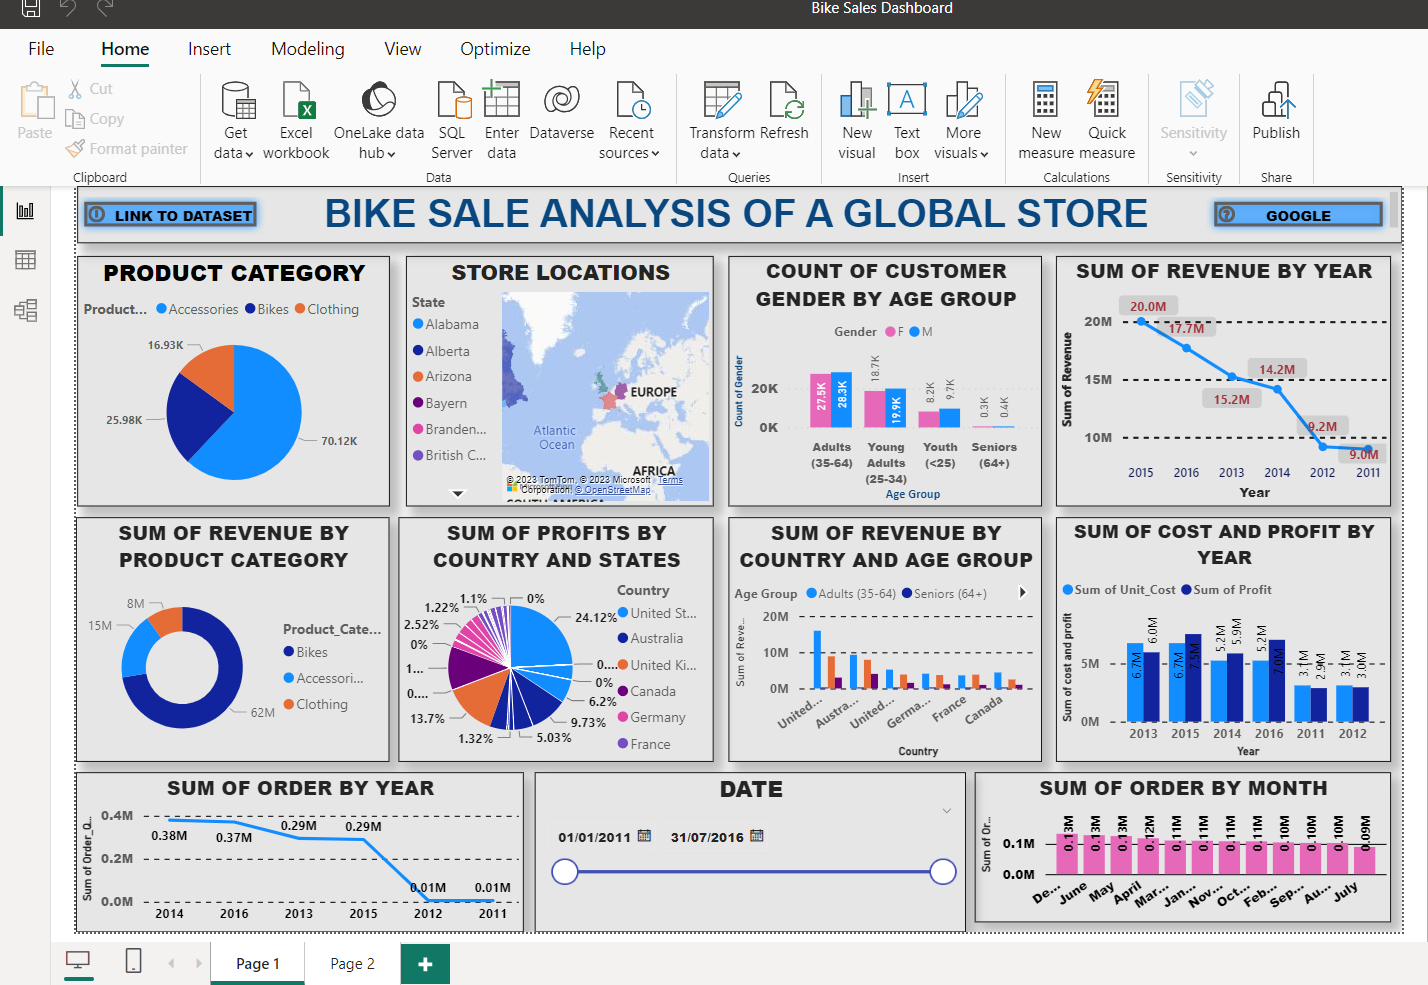

What the dashboard file says about the page in this screenshot:
{"tool":"powerbi","page":{"name":"Page 1","canvas":[1280,720],"ordinal":0},"visuals":[{"type":"pieChart","title":"PRODUCT CATEGORY ","fields":{"Category":["bike sales europe.Product_Category"],"Y":["CountNonNull(bike sales europe.Product_Category)"]},"box":[1.2,67.5,301.5,241.2],"z":0},{"type":"filledMap","title":"STORE LOCATIONS","fields":{"Category":["bike sales europe.Country"],"Series":["bike sales europe.State"]},"box":[318.4,67.5,296.7,241.2],"z":1000},{"type":"clusteredColumnChart","title":"COUNT OF CUSTOMER GENDER BY AGE GROUP ","fields":{"Category":["bike sales europe.Age_Group"],"Y":["CountNonNull(bike sales europe.Customer_Gender)"],"Series":["bike sales europe.Customer_Gender"]},"box":[629.5,67.5,302.7,241.2],"z":2000},{"type":"lineChart","title":"SUM OF REVENUE BY YEAR","fields":{"Category":["bike sales europe.Year"],"Y":["Sum(bike sales europe.Revenue)"]},"box":[945.5,67.5,323.2,241.2],"z":3000},{"type":"donutChart","title":"SUM OF REVENUE BY PRODUCT CATEGORY","fields":{"Y":["Sum(bike sales europe.Revenue)"],"Category":["bike sales europe.Product_Category"]},"box":[0,319.6,302.7,236.4],"z":4000},{"type":"clusteredColumnChart","title":"SUM OF REVENUE BY COUNTRY AND AGE GROUP","fields":{"Category":["bike sales europe.Country"],"Y":["Sum(bike sales europe.Revenue)"],"Series":["bike sales europe.Age_Group"]},"box":[629.5,319.6,302.7,236.4],"z":5000},{"type":"pieChart","title":"SUM OF PROFITS BY COUNTRY AND STATES","fields":{"Category":["bike sales europe.Country"],"Y":["Sum(bike sales europe.Profit)"],"Series":["bike sales europe.State"]},"box":[311.2,319.6,303.9,236.4],"z":6000},{"type":"textbox","box":[1.2,0,1278.4,55.5],"z":7000},{"type":"clusteredColumnChart","title":"SUM OF COST AND PROFIT BY YEAR","fields":{"Category":["bike sales europe.Year"],"Y":["Sum(bike sales europe.Unit_Cost)","Sum(bike sales europe.Profit)"]},"box":[945.5,319.6,323.2,236.4],"z":8000},{"type":"actionButton","box":[0,7.2,182.1,39.8],"z":9000},{"type":"actionButton","box":[1090.3,7.2,178.5,39.8],"z":10000},{"type":"lineChart","title":"SUM OF ORDER BY YEAR","fields":{"Category":["bike sales europe.Year"],"Y":["Sum(bike sales europe.Order_Quantity)"]},"box":[0,565.6,431.8,154.4],"z":11000},{"type":"clusteredColumnChart","title":"SUM OF ORDER BY MONTH","fields":{"Category":["bike sales europe.Month"],"Y":["Sum(bike sales europe.Order_Quantity)"]},"box":[867.1,565.6,401.6,144.7],"z":12000},{"type":"slicer","title":"DATE","fields":{"Values":["bike sales europe.Date"]},"box":[442.6,565.6,416.1,154.4],"z":12001}]}

Visuals, with their boxes on the page's 1280x720 design canvas (x1, y1, x2, y2). These are canvas units, not pixel positions in the 1428x985 screenshot, which may show the page scaled, cropped or inside an application window:
"PRODUCT CATEGORY " pieChart: x1=1 y1=68 x2=303 y2=309
"STORE LOCATIONS" filledMap: x1=318 y1=68 x2=615 y2=309
"COUNT OF CUSTOMER GENDER BY AGE GROUP " clusteredColumnChart: x1=630 y1=68 x2=932 y2=309
"SUM OF REVENUE BY YEAR" lineChart: x1=946 y1=68 x2=1269 y2=309
"SUM OF REVENUE BY PRODUCT CATEGORY" donutChart: x1=0 y1=320 x2=303 y2=556
"SUM OF REVENUE BY COUNTRY AND AGE GROUP" clusteredColumnChart: x1=630 y1=320 x2=932 y2=556
"SUM OF PROFITS BY COUNTRY AND STATES" pieChart: x1=311 y1=320 x2=615 y2=556
textbox: x1=1 y1=0 x2=1280 y2=56
"SUM OF COST AND PROFIT BY YEAR" clusteredColumnChart: x1=946 y1=320 x2=1269 y2=556
actionButton: x1=0 y1=7 x2=182 y2=47
actionButton: x1=1090 y1=7 x2=1269 y2=47
"SUM OF ORDER BY YEAR" lineChart: x1=0 y1=566 x2=432 y2=720
"SUM OF ORDER BY MONTH" clusteredColumnChart: x1=867 y1=566 x2=1269 y2=710
"DATE" slicer: x1=443 y1=566 x2=859 y2=720
